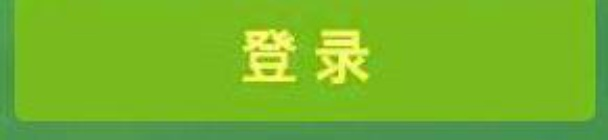Button: (1, 1, 607, 139)
